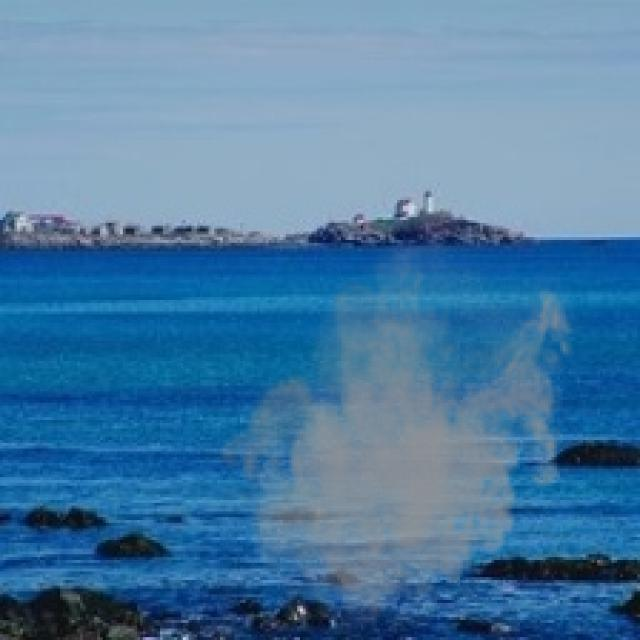Smoke: (217, 220, 586, 637)
